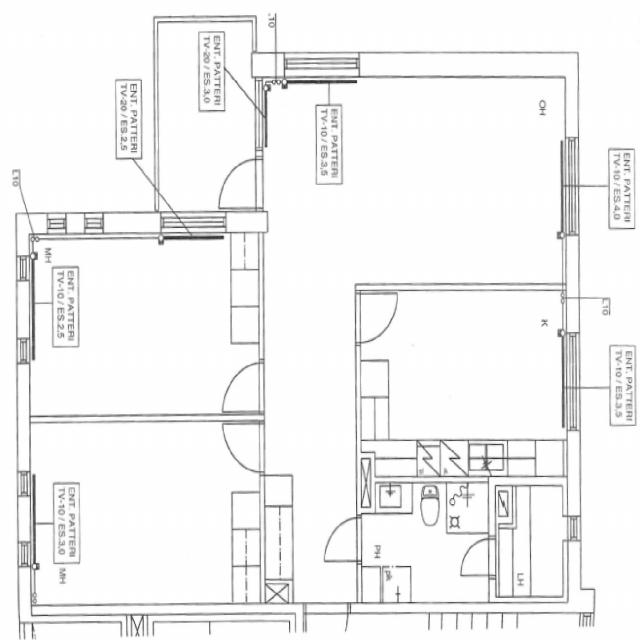door: (218, 159, 263, 207), (356, 294, 399, 342), (222, 425, 264, 472), (222, 362, 264, 409), (323, 517, 362, 561), (460, 538, 495, 576)
